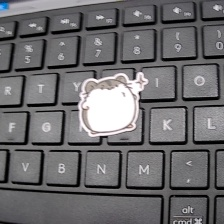mouse: (74, 71, 152, 137)
